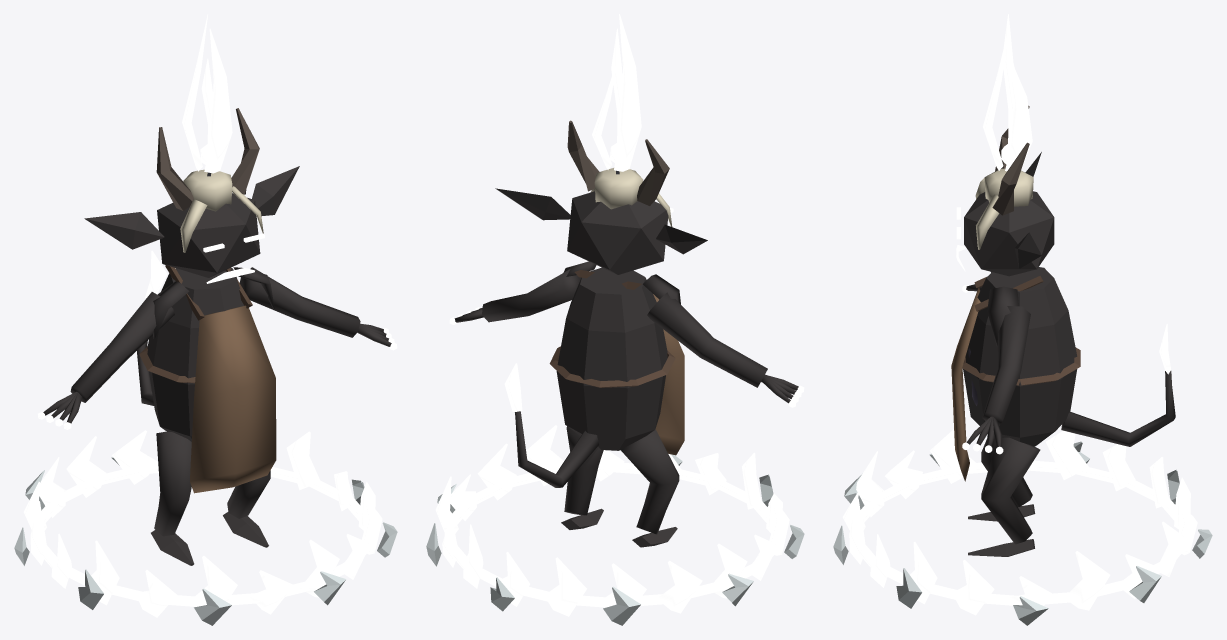
File: fiend-ward-flame.glb
The picture shows the model from 3 angles, left to right: view 1: azimuth 30°, elevation 25°; view 2: azimuth 150°, elevation 25°; view 3: azimuth 270°, elevation 25°; orthographic projection.
Visible parts, largest first — view 1: fiend_ward_flame; view 2: fiend_ward_flame; view 3: fiend_ward_flame.
Boxes of the visible parts, x1,y1,x2,y2 form: fiend_ward_flame: (14,14,397,625); fiend_ward_flame: (426,14,804,625); fiend_ward_flame: (833,14,1212,625).
Bounding box in the file's own units: 0.73 × 1.08 × 0.6916.
